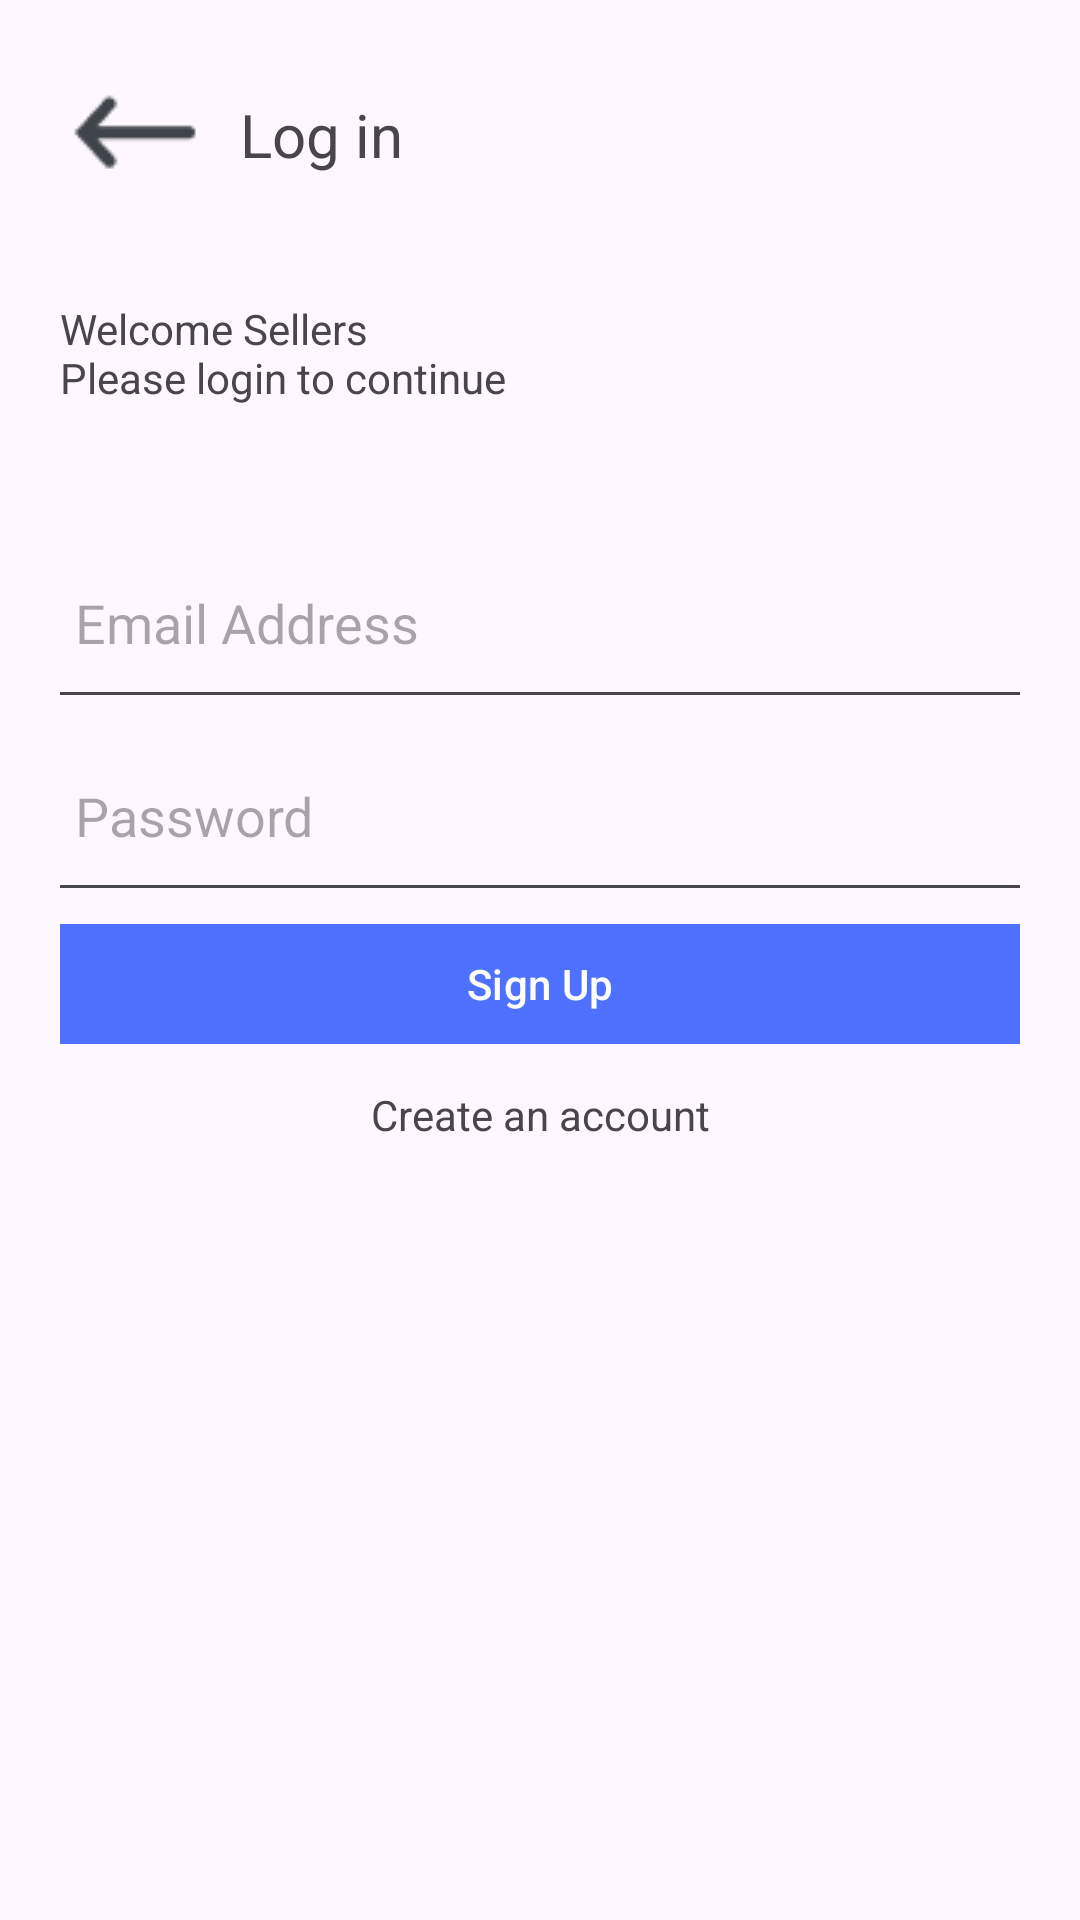

Point at icon controls on the screen. Image size 1080w x 1920h, points as (x,y).
arrow left: (135,132)
